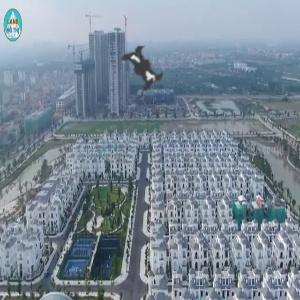drone: (88, 11, 198, 121)
